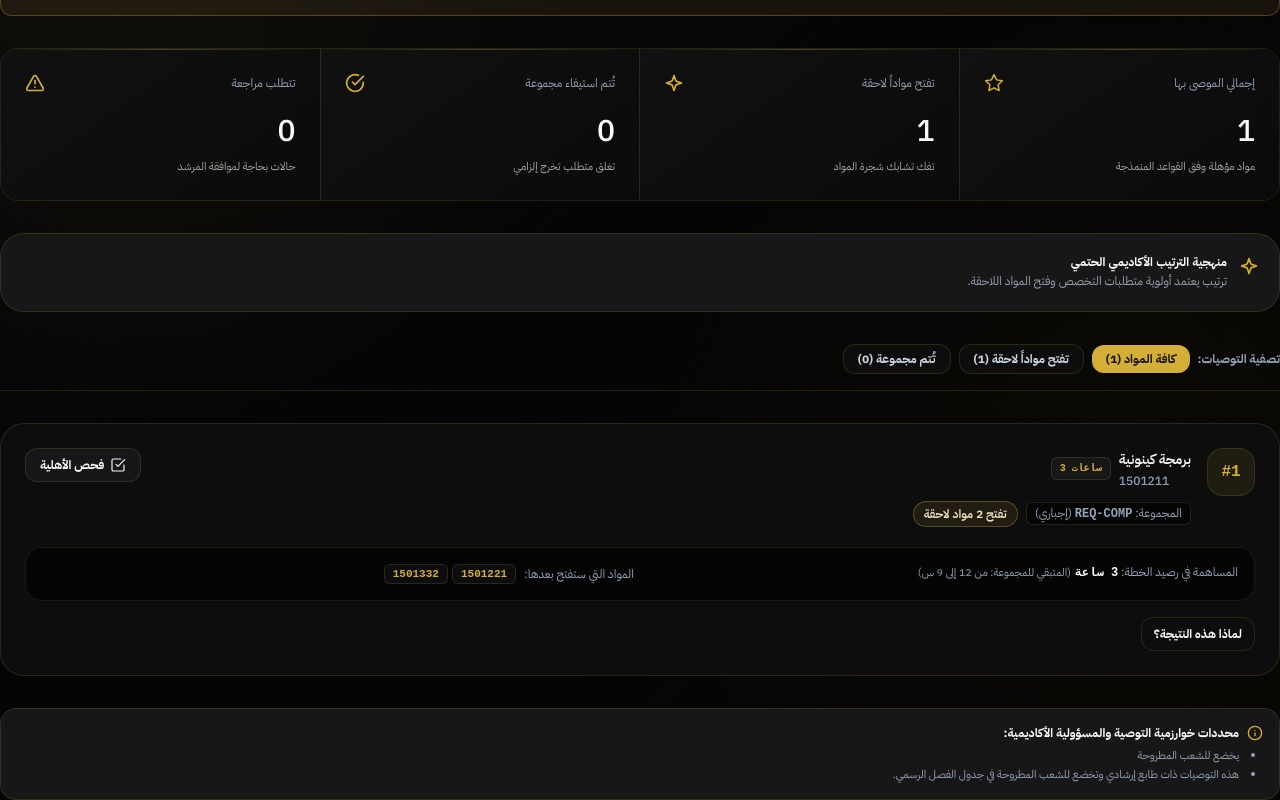
Morshidi Student Portal Pages Suite › renders RecommendationsPage with ranked courses and impact tags
(page scrolled)
Expected: the text "#1" is shown, [1207,448,1255,496]
Expected: the text "تفتح 2 مواد لاحقة" is shown, [913,501,1018,527]
Click the button "لماذا هذه النتيجة؟" at (1198, 634), box [1141,617,1255,651]
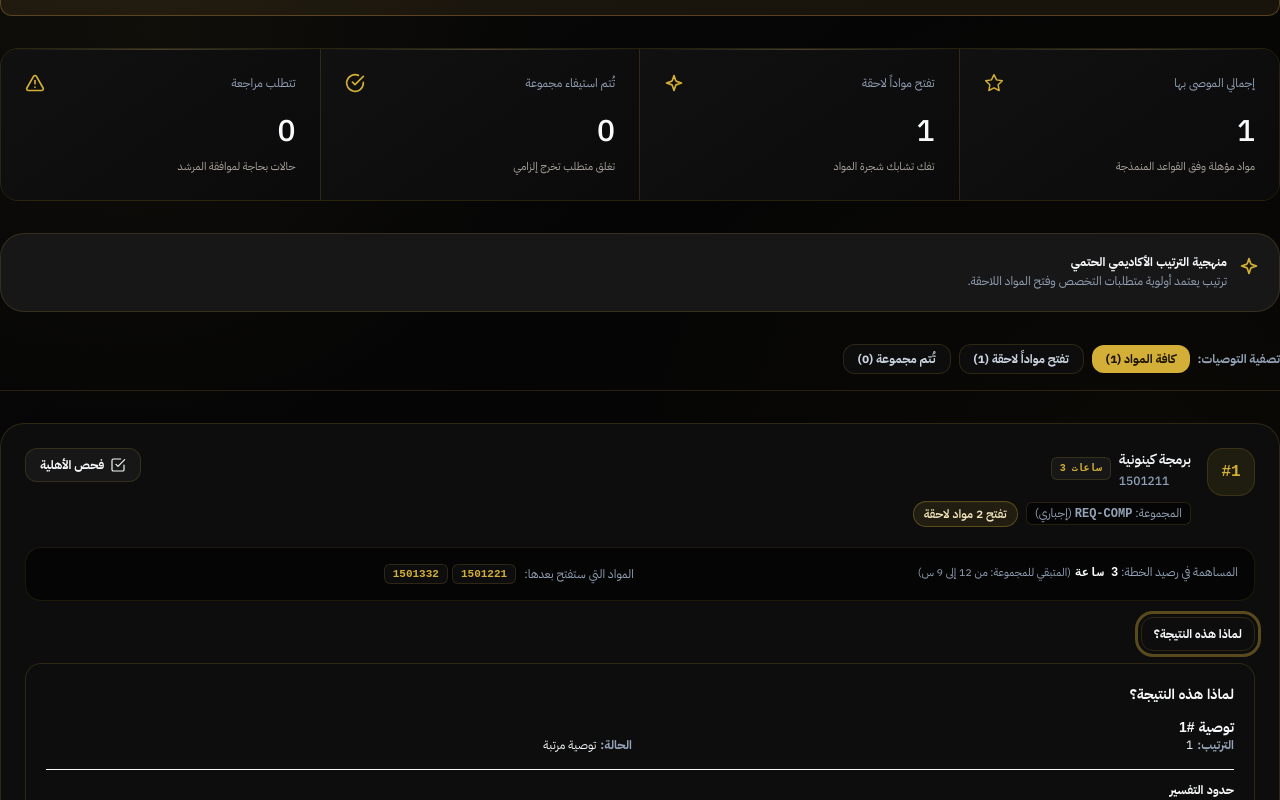
Now the heading "توصية #1" is shown, box [1179,719,1234,735]
